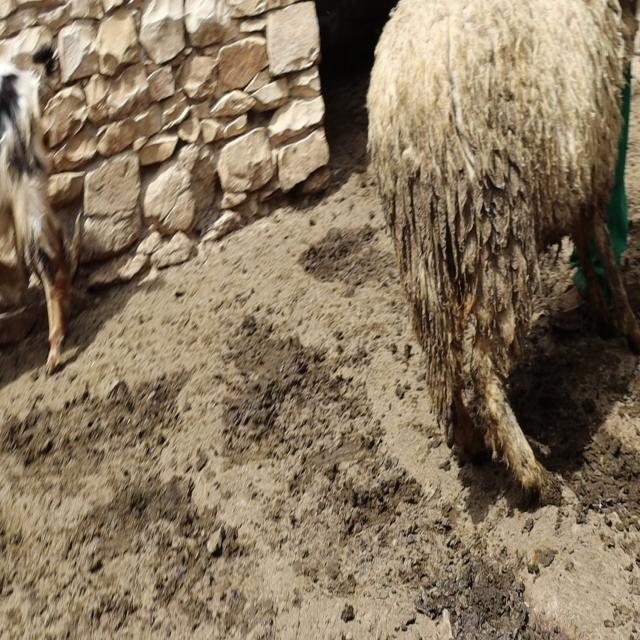Score_2: (367, 0, 640, 502)
